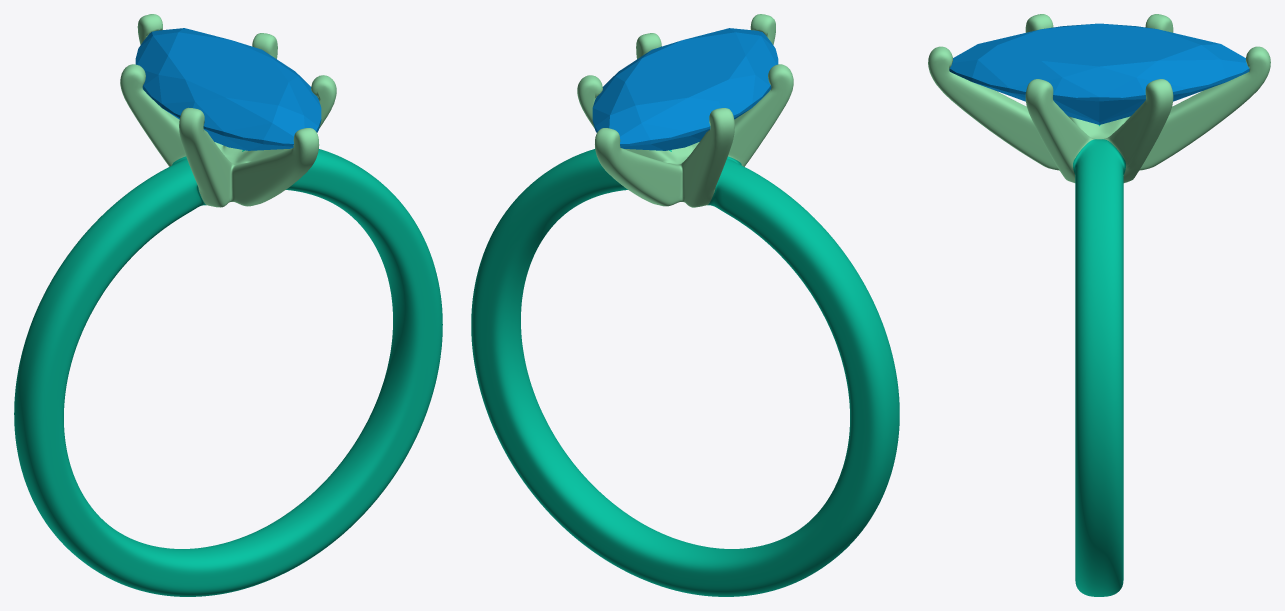
File: BE101_MQ_200ct_RENDER.glb
The picture shows the model from 3 angles, left to right: view 1: azimuth 30°, elevation 25°; view 2: azimuth 150°, elevation 25°; view 3: azimuth 270°, elevation 25°; orthographic projection.
Parts seen in each view (by area): view 1: Metal 01, CS_Diamond_Marquise, Metal 02; view 2: Metal 01, CS_Diamond_Marquise, Metal 02; view 3: Metal 01, CS_Diamond_Marquise, Metal 02.
Part boxes in pixels (bbox=[...]): Metal 01: bbox=[14, 149, 442, 596]; CS_Diamond_Marquise: bbox=[135, 28, 321, 150]; Metal 02: bbox=[120, 14, 336, 207]; Metal 01: bbox=[471, 149, 899, 596]; CS_Diamond_Marquise: bbox=[592, 28, 778, 150]; Metal 02: bbox=[577, 14, 793, 207]; Metal 01: bbox=[1073, 125, 1125, 596]; CS_Diamond_Marquise: bbox=[949, 23, 1249, 124]; Metal 02: bbox=[928, 14, 1270, 182].
Size of the model in its own units: 20.38 by 24.19 by 14.21.
